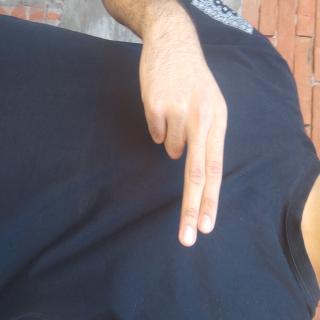AYN: (2, 114, 189, 246)
